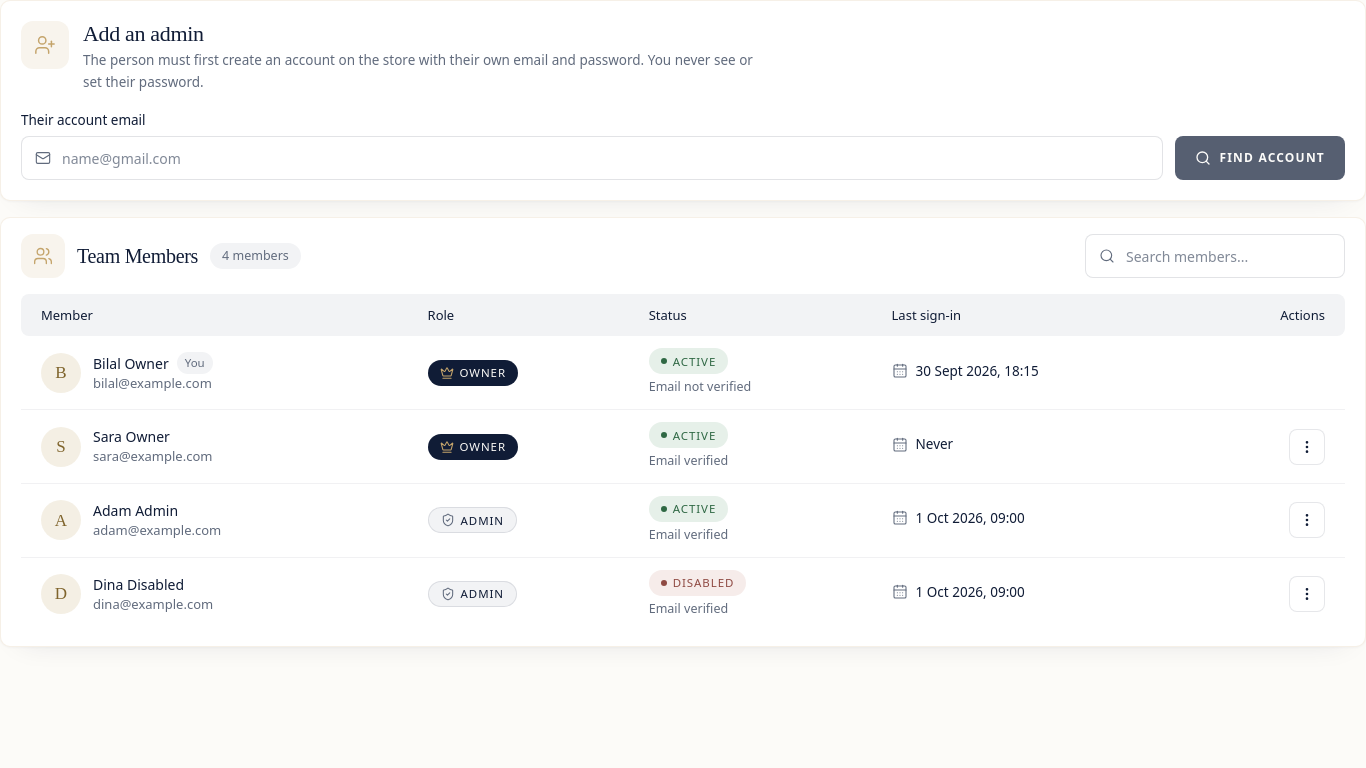
who is offered which action › an admin's role badge is clickable and offers only 'Change to Owner'
Click the button "Admin" in the row of "Adam Admin" at [472, 520], box x1=428 y1=507 x2=517 y2=533
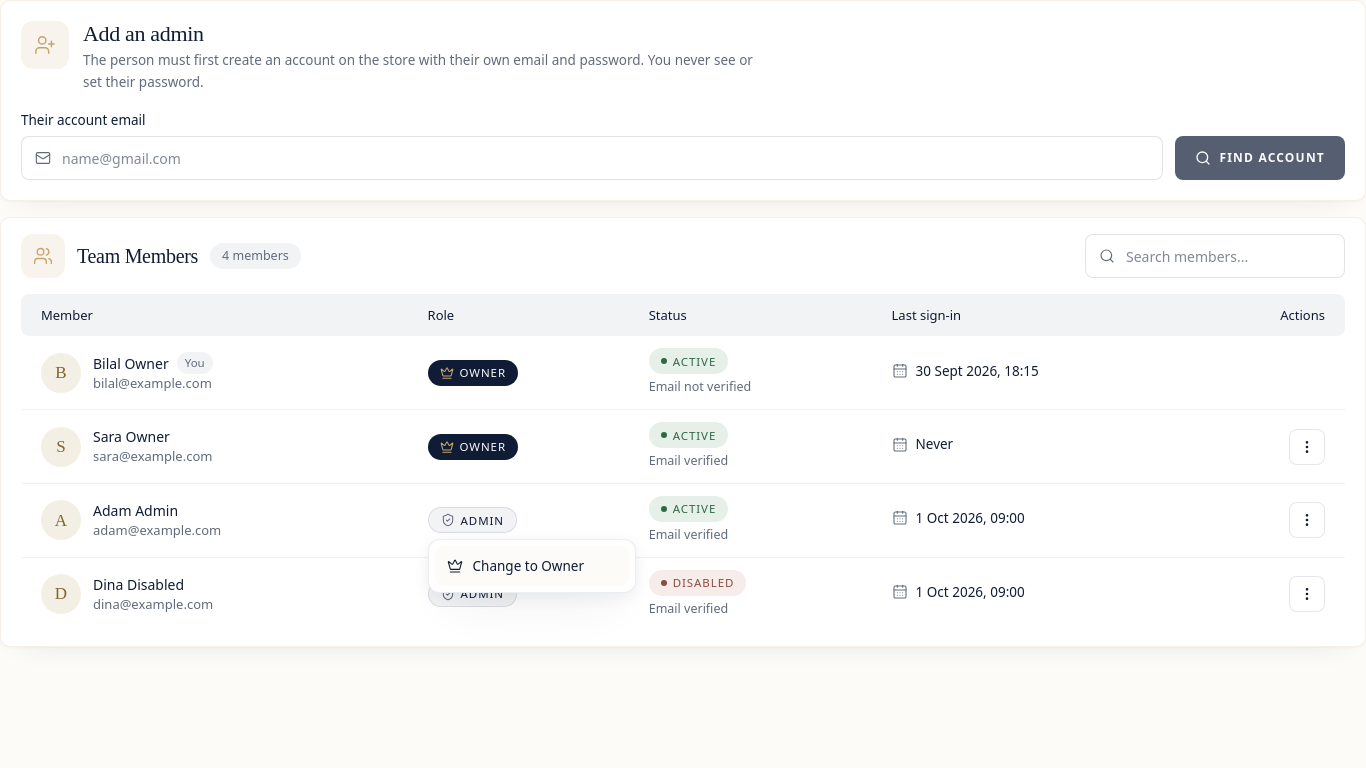
Check: the menu items read "Change to Owner", in this order, box x1=435 y1=546 x2=629 y2=586
